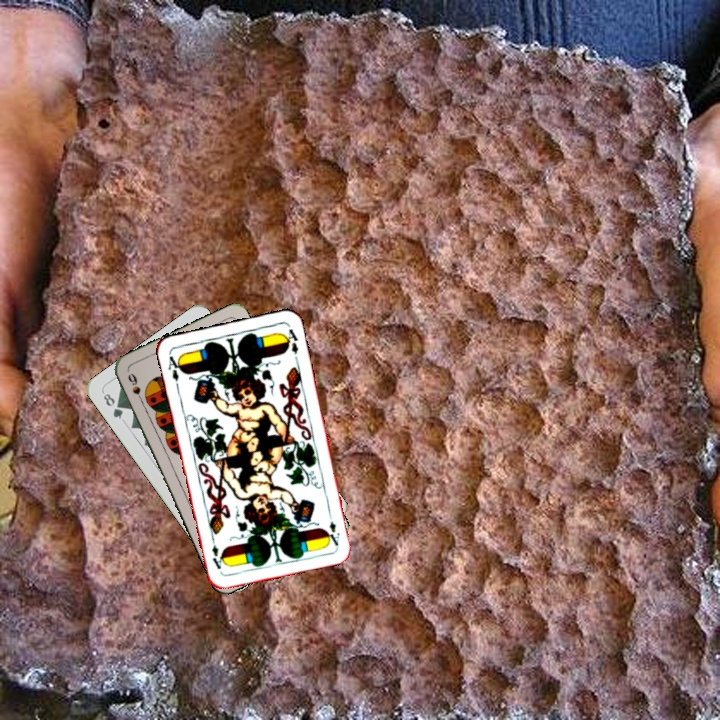EA: (324, 508, 342, 548), (164, 350, 185, 384)
G8: (99, 389, 126, 422)
S9: (124, 369, 147, 407)
